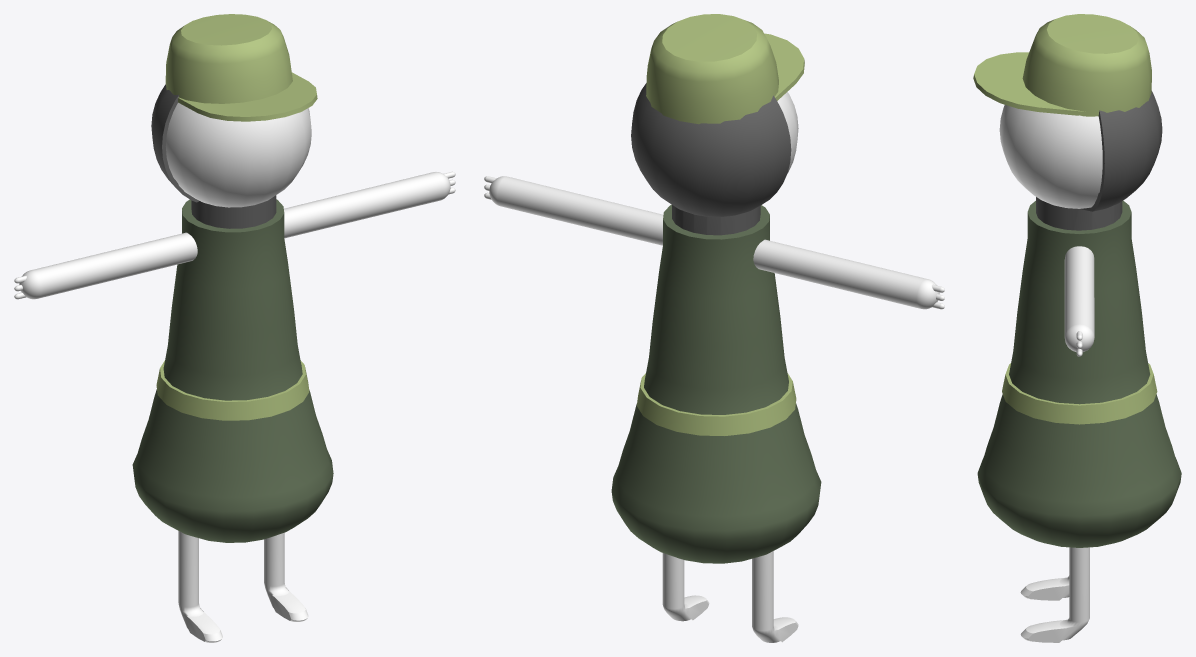
The model's file is policia.fbx.
The picture shows the model from 3 angles, left to right: view 1: azimuth 30°, elevation 25°; view 2: azimuth 150°, elevation 25°; view 3: azimuth 270°, elevation 25°; orthographic projection. The views are drawn at different scales.
Visible parts, largest first — view 1: pSphere92; view 2: pSphere92; view 3: pSphere92.
Part boxes in pixels (bbox=[...]): pSphere92: bbox=[14, 14, 455, 642]; pSphere92: bbox=[484, 14, 944, 642]; pSphere92: bbox=[973, 14, 1181, 642].
Bounding box in the file's own units: 49.18 × 62.13 × 19.94.
